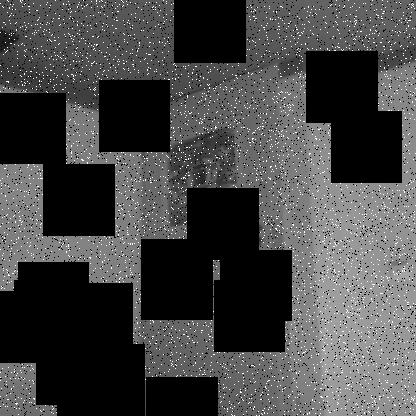Porte: (139, 60, 293, 416)
